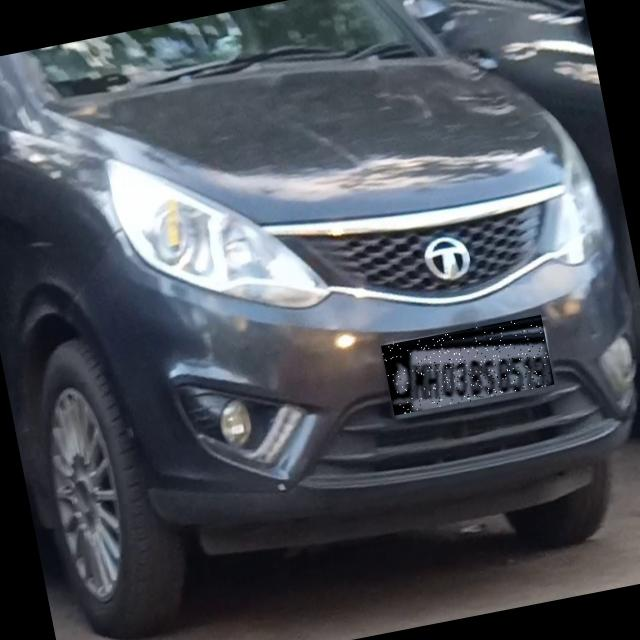Plate: (382, 316, 556, 417)
